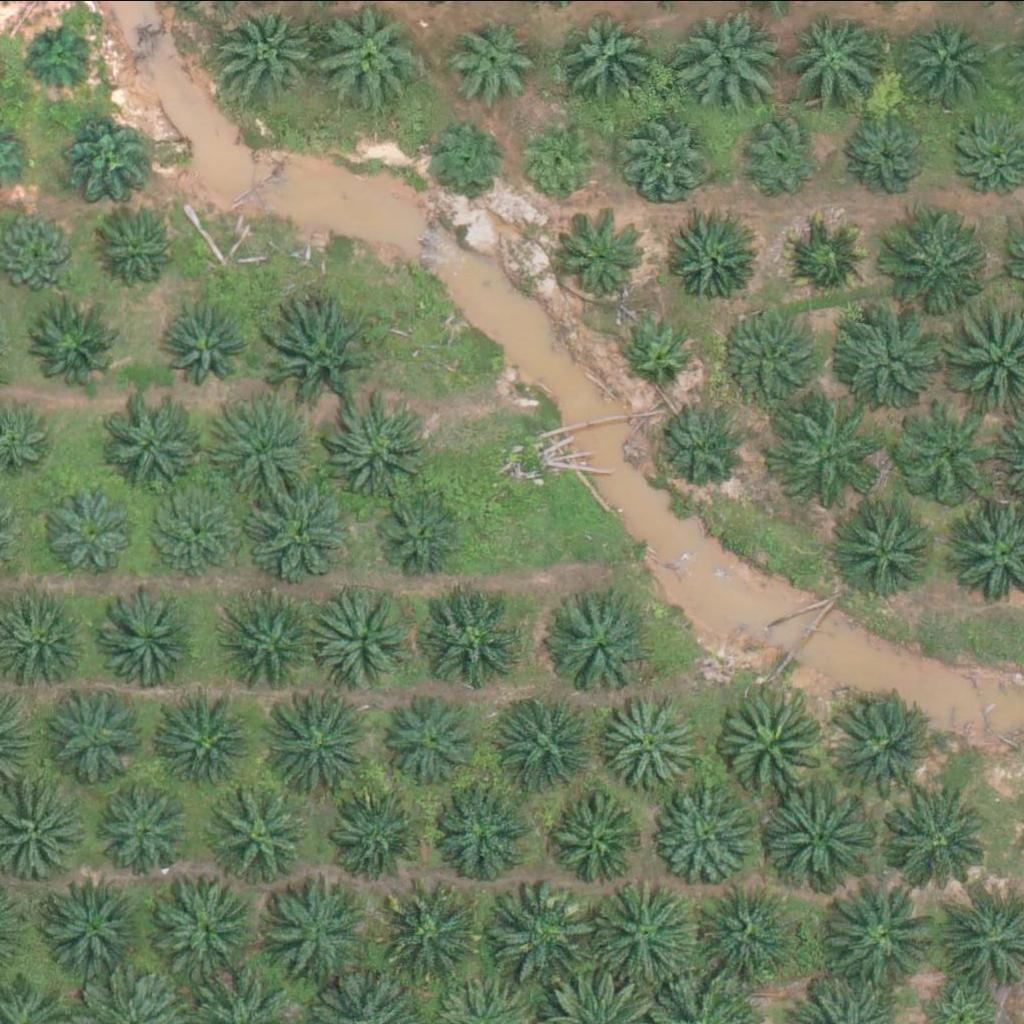Kelapa_Sawit: (825, 300, 938, 413), (765, 784, 878, 897), (882, 787, 995, 900), (265, 299, 378, 412), (482, 879, 595, 992), (824, 881, 938, 993), (583, 877, 697, 989), (884, 205, 997, 317), (717, 689, 830, 801), (825, 692, 938, 804), (202, 397, 315, 509), (260, 685, 373, 797), (36, 877, 137, 977), (44, 684, 145, 784), (102, 586, 203, 686), (782, 6, 883, 106), (782, 412, 883, 512), (894, 406, 995, 506), (830, 494, 931, 594), (554, 597, 655, 697), (603, 690, 704, 790), (548, 792, 649, 892), (656, 785, 757, 885), (443, 13, 544, 113), (326, 403, 427, 503), (243, 478, 344, 578), (312, 594, 413, 694), (224, 594, 325, 694), (156, 690, 257, 790), (41, 478, 141, 578), (105, 392, 205, 492), (563, 7, 663, 107), (679, 4, 779, 104), (717, 305, 817, 405), (505, 692, 605, 792), (694, 878, 794, 978), (323, 6, 423, 106), (422, 588, 522, 688), (381, 692, 481, 792), (426, 780, 526, 880), (206, 788, 306, 888), (322, 783, 422, 883), (155, 877, 255, 977), (272, 877, 372, 977), (385, 885, 485, 985), (148, 485, 237, 573), (71, 109, 159, 197), (899, 16, 987, 104), (520, 115, 608, 203), (738, 111, 826, 199), (850, 110, 938, 198), (658, 402, 746, 490), (98, 205, 186, 292), (30, 304, 118, 391), (101, 787, 189, 874), (621, 114, 709, 201), (562, 212, 650, 299), (667, 216, 755, 303), (785, 216, 873, 303), (421, 114, 509, 201), (167, 299, 255, 386), (374, 490, 462, 577), (624, 312, 700, 387), (22, 18, 97, 93)
